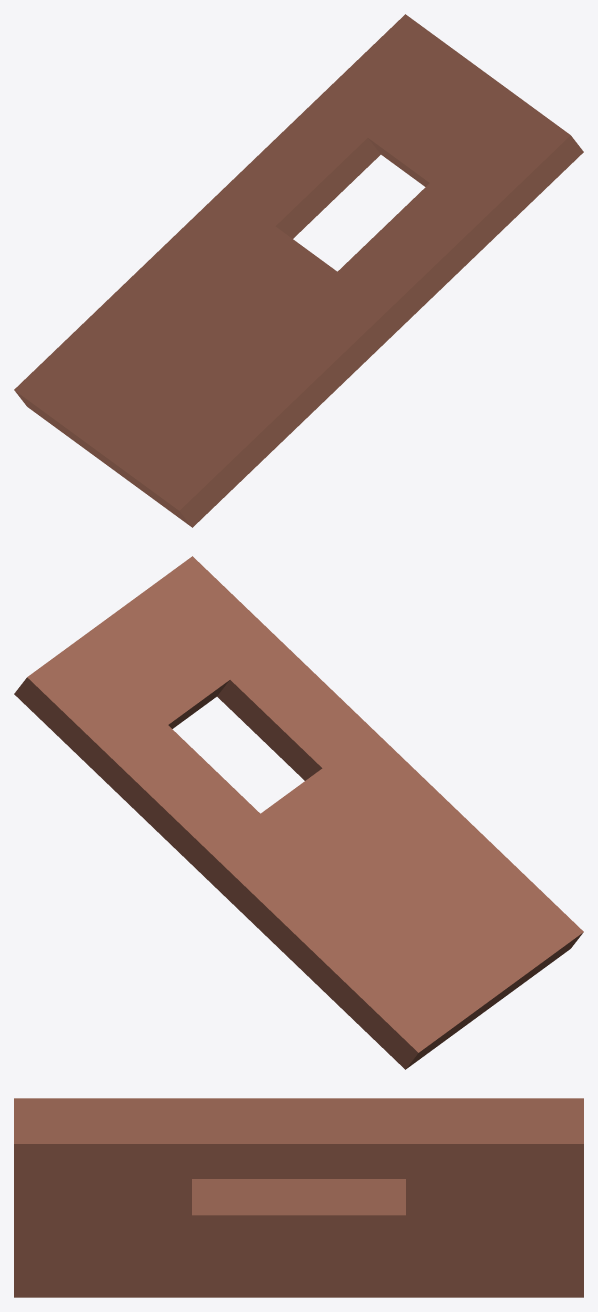
File: SARM_SAR_Building_RUB_001_Wall_N_00.glb
3 renders of one model, top to bottom at view 1: azimuth 30°, elevation 25°; view 2: azimuth 150°, elevation 25°; view 3: azimuth 270°, elevation 25°, orthographic. The views are drawn at different scales.
Parts seen in each view (by area): view 1: SAR_Building_RUB_001_Wall_N_00.001; view 2: SAR_Building_RUB_001_Wall_N_00.001; view 3: SAR_Building_RUB_001_Wall_N_00.001.
Boxes of the visible parts, x1,y1,x2,y2 form: SAR_Building_RUB_001_Wall_N_00.001: (14,14,583,527); SAR_Building_RUB_001_Wall_N_00.001: (14,556,583,1069); SAR_Building_RUB_001_Wall_N_00.001: (14,1098,583,1297).
Size of the model in its own units: 4.52 by 3.21 by 3.2.
